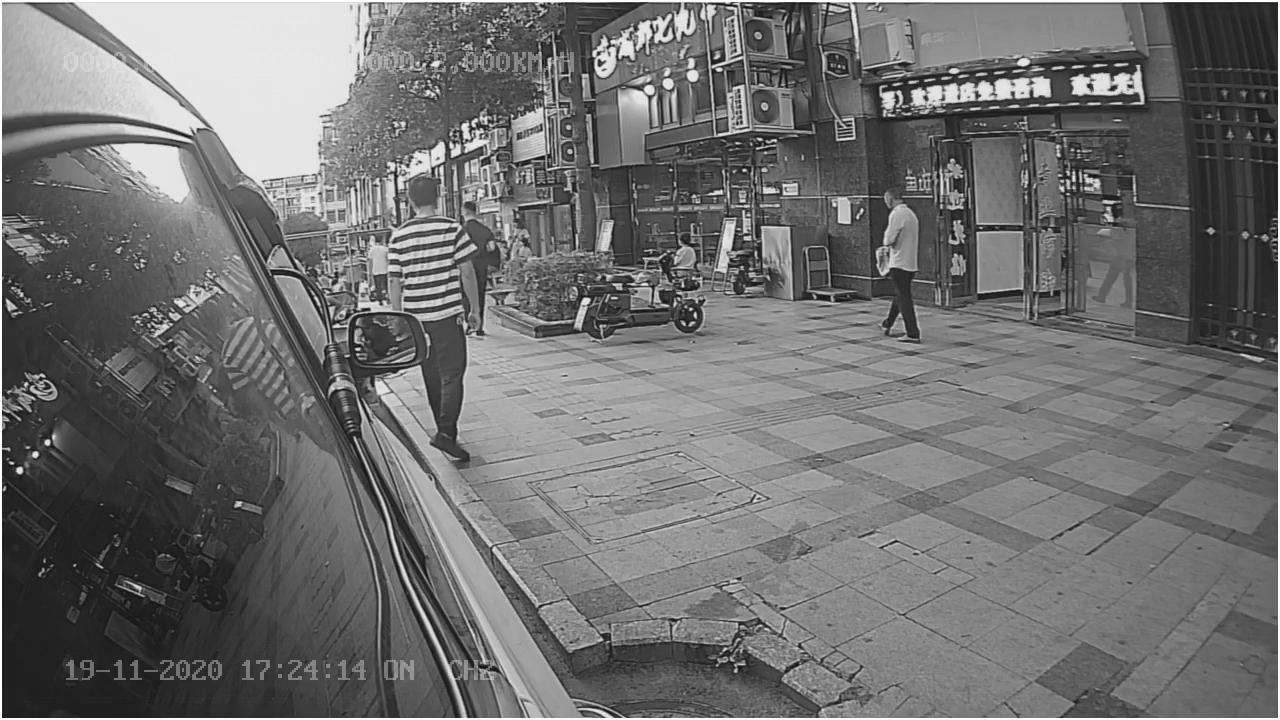person: (384, 168, 475, 465), (862, 184, 928, 352)
